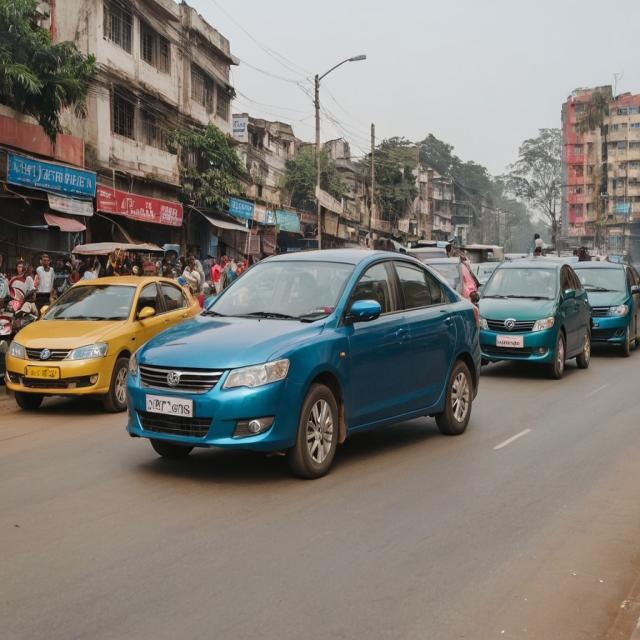blue: (127, 249, 486, 459), (465, 253, 594, 389), (566, 246, 640, 367)
